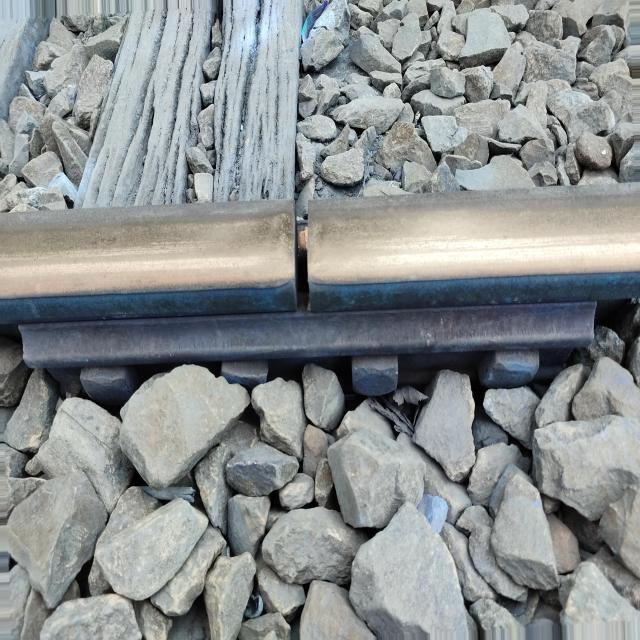crack: (272, 182, 346, 342)
